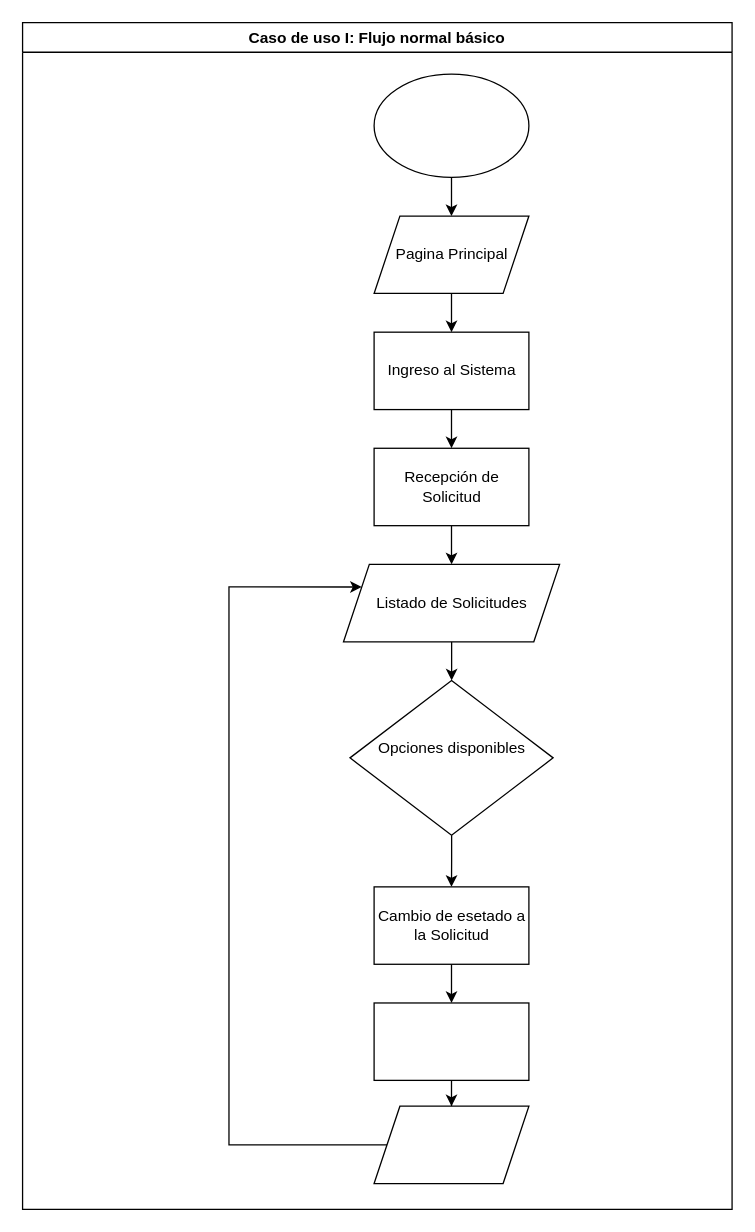
Image size: 755x1232. Some labels were removed from this diagram. The shapes that lost their labels are listed below. From the top down, each one's box as (x1, y1, x2, y2) in pixels, then its label:
(373, 73, 529, 177): inicio
(373, 1002, 529, 1080): Registro en Bitacora
(373, 1105, 529, 1184): Mensaje de éxito
